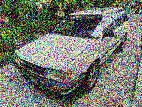car: (12, 6, 129, 97)
